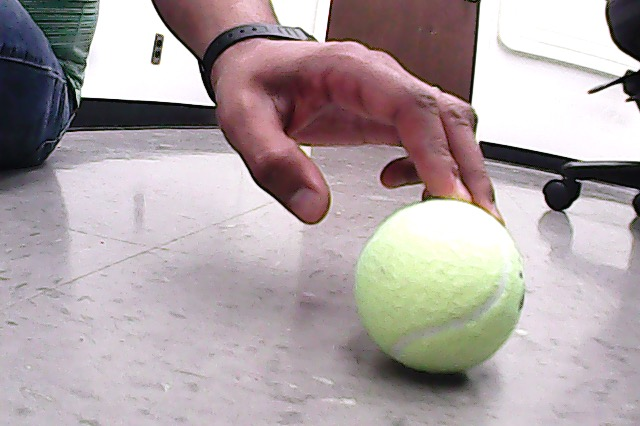ball: (353, 195, 528, 377)
